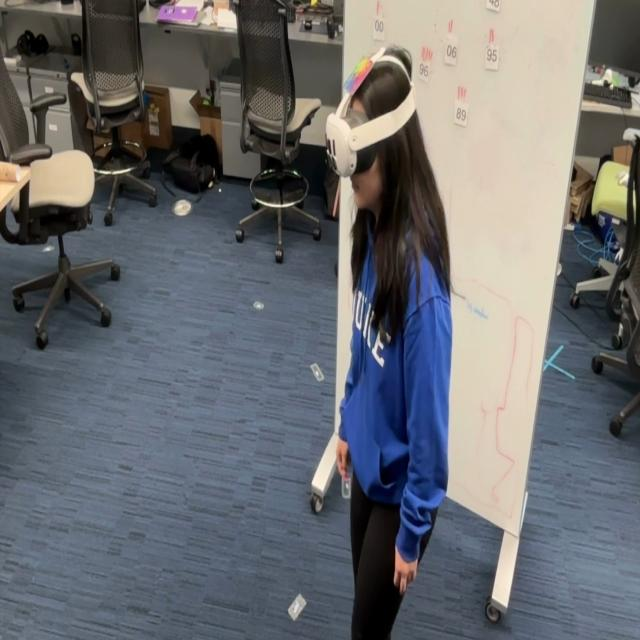Headset: (325, 52, 416, 178)
Marker: (343, 44, 378, 104)
